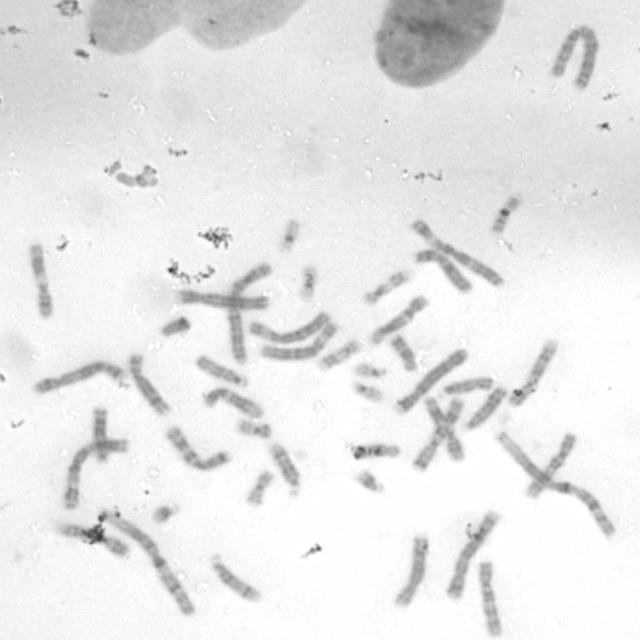A1: (496, 430, 620, 540), (104, 507, 195, 618)
A2: (226, 261, 272, 368), (546, 22, 601, 94)
A3: (410, 218, 507, 288), (60, 436, 130, 512)
B4: (391, 346, 471, 417), (176, 290, 270, 312)
B5: (444, 509, 503, 602), (31, 359, 125, 397)
C10: (522, 430, 579, 501), (476, 560, 507, 638)
C11: (422, 394, 467, 464), (28, 242, 53, 321)
C12: (369, 292, 430, 344), (202, 387, 267, 420)
C6: (258, 320, 339, 362), (246, 307, 332, 344)
C7: (410, 396, 466, 472), (161, 423, 231, 475)
C8: (392, 531, 433, 609), (126, 352, 172, 418)
C9: (508, 336, 560, 408), (58, 521, 132, 562)
D13: (464, 385, 507, 432), (90, 405, 111, 465)
D14: (207, 553, 266, 607), (268, 442, 302, 498)
D15: (194, 353, 252, 389), (437, 376, 494, 400)
E16: (489, 190, 527, 236)
E17: (362, 268, 411, 308), (314, 337, 364, 373)
E18: (389, 334, 420, 373), (350, 442, 402, 461)
F19: (296, 263, 320, 302), (277, 217, 301, 255)
F20: (244, 468, 274, 509), (233, 416, 274, 438)
G21: (353, 469, 388, 497), (146, 501, 183, 527)
G22: (351, 381, 388, 405), (352, 361, 390, 380)
X: (412, 246, 475, 297)
Y: (159, 315, 192, 339)
